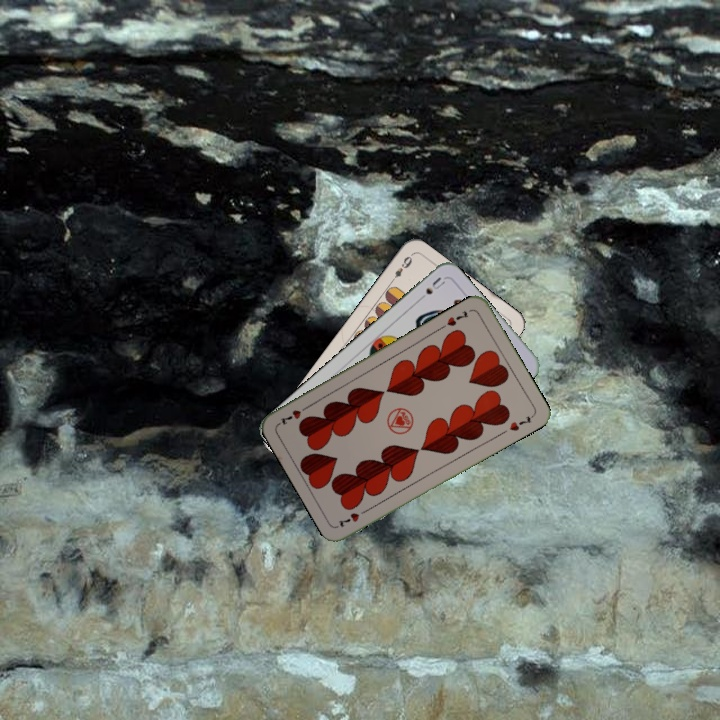E9: (386, 252, 415, 286)
H7: (334, 505, 372, 530), (443, 307, 471, 329)
SU: (413, 273, 448, 305)
